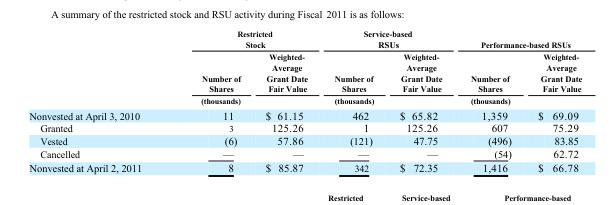table: (28, 28, 581, 173)
table column: (28, 28, 170, 173), (170, 28, 252, 173), (386, 28, 455, 173), (252, 28, 320, 173), (455, 28, 523, 173), (320, 28, 386, 173), (523, 28, 581, 173)
table column header: (28, 28, 581, 106)
table row: (28, 50, 581, 106), (28, 28, 581, 50), (28, 106, 581, 121), (28, 146, 581, 160), (28, 121, 581, 134), (28, 160, 581, 173), (28, 134, 581, 146)
table spanning cell: (170, 28, 320, 50), (320, 28, 455, 50), (455, 28, 581, 50)
